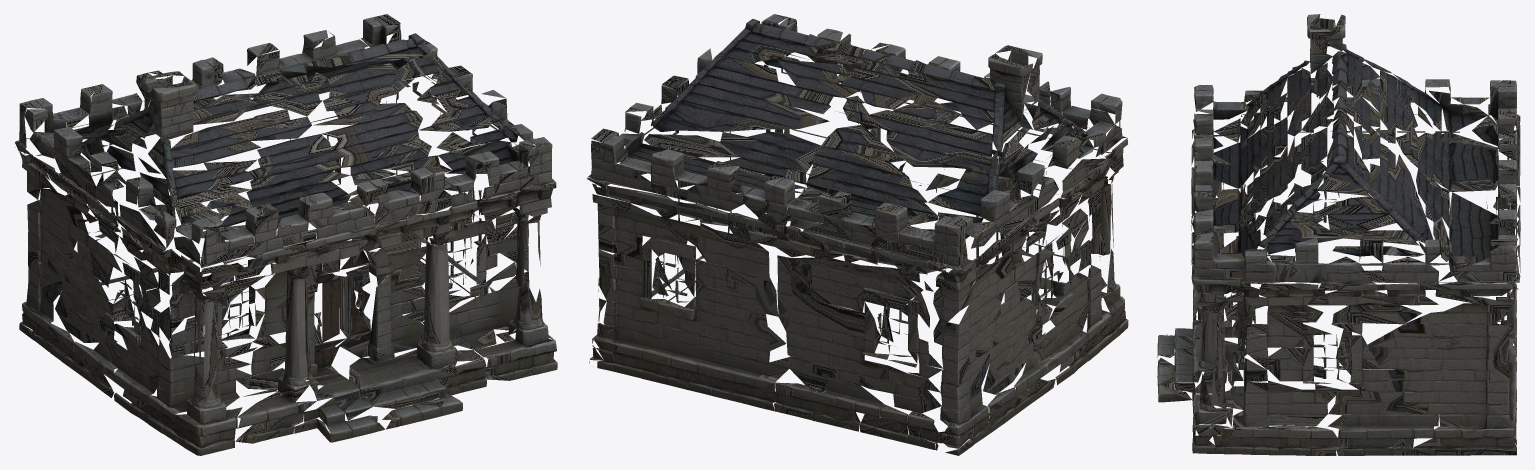
The model's file is bld_bank_a_LOD1.glb.
3 views of the same model, side by side, from view 1: azimuth 30°, elevation 25°; view 2: azimuth 150°, elevation 25°; view 3: azimuth 270°, elevation 25° (orthographic). The views are drawn at different scales.
Parts seen in each view (by area): view 1: geometry_0; view 2: geometry_0; view 3: geometry_0.
Part boxes in pixels (left/top/right/bottom): geometry_0: left=15, top=14, right=557, bottom=455; geometry_0: left=586, top=14, right=1128, bottom=455; geometry_0: left=1157, top=14, right=1520, bottom=455.
Size of the model in its own units: 10.73 by 8.5 by 9.69.
1 material, 1 textured.
